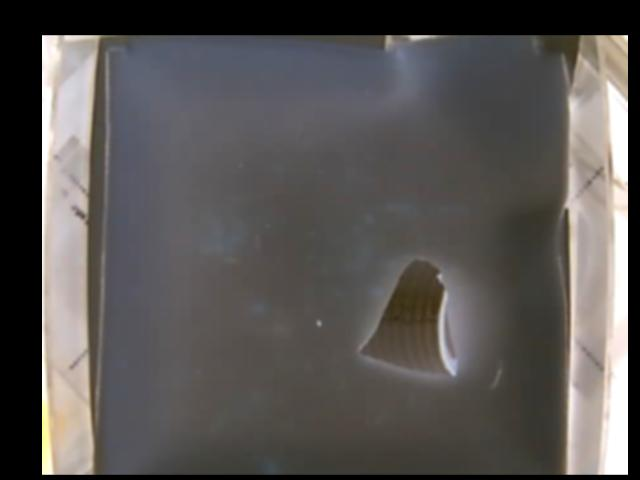China: (356, 261, 458, 377)
